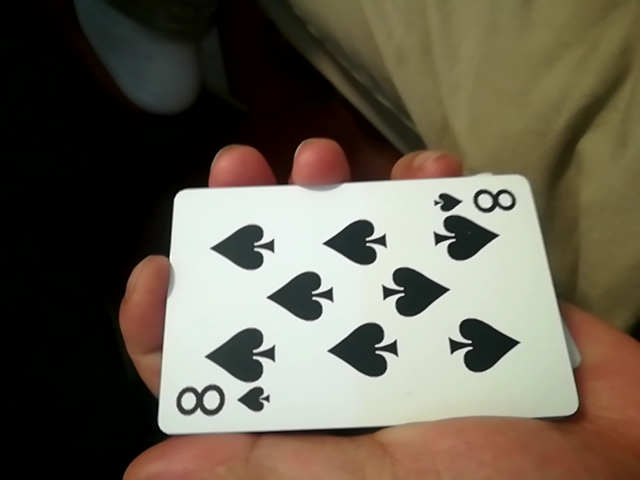ht 8: (130, 164, 570, 448)
